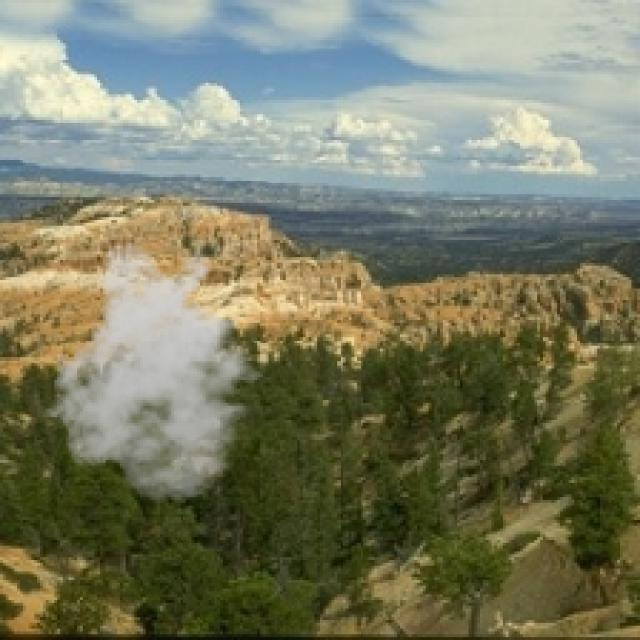smoke: (40, 240, 274, 503)
